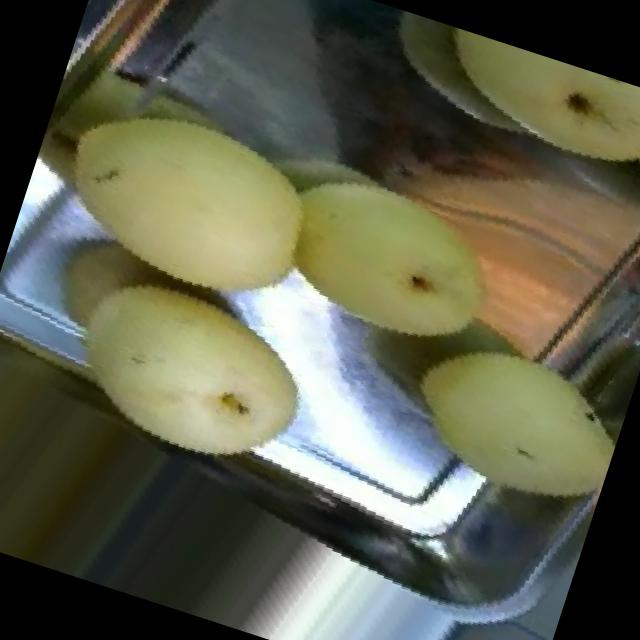Fruit: (267, 29, 640, 445), (8, 32, 368, 356), (9, 221, 357, 524), (366, 293, 640, 544), (392, 22, 640, 255)
